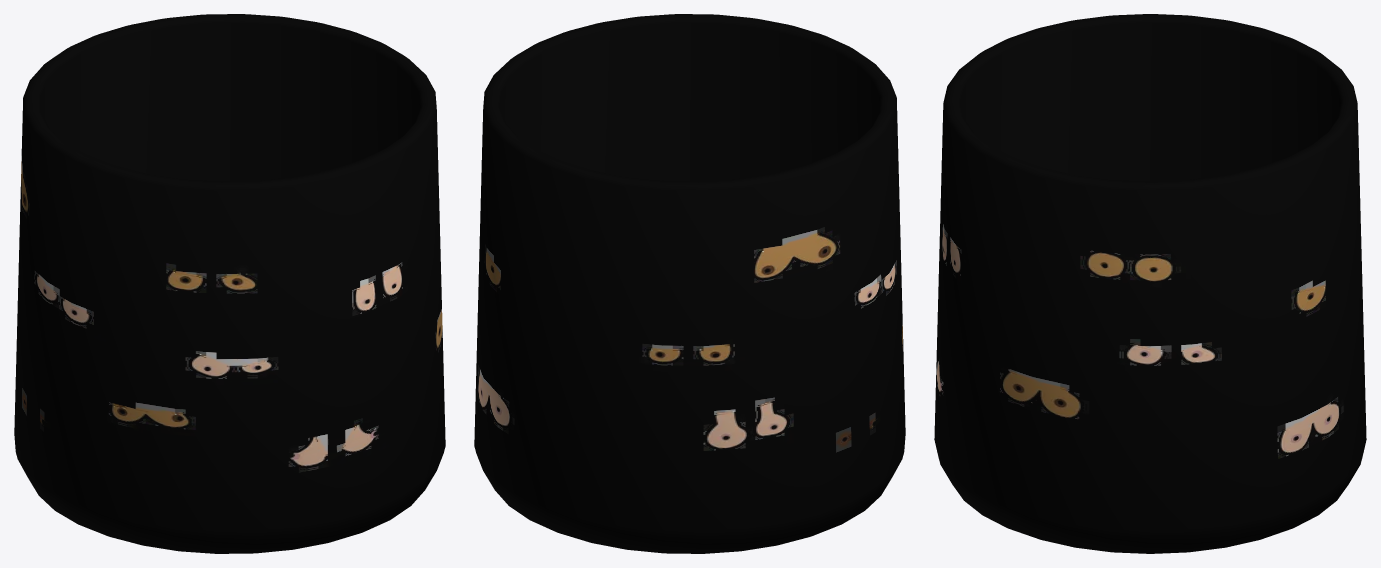
The model's file is Cup-transformed.glb.
The picture shows the model from 3 angles, left to right: view 1: azimuth 30°, elevation 25°; view 2: azimuth 150°, elevation 25°; view 3: azimuth 270°, elevation 25°; orthographic projection.
Parts seen in each view (by area): view 1: Cup; view 2: Cup; view 3: Cup.
Boxes of the visible parts, left/top/right/bottom form: Cup: left=14, top=14, right=445, bottom=553; Cup: left=474, top=14, right=905, bottom=553; Cup: left=934, top=14, right=1366, bottom=553.
Size of the model in its own units: 0.6463 by 0.6124 by 0.6463.
Materials: 1 (1 with a texture image).
